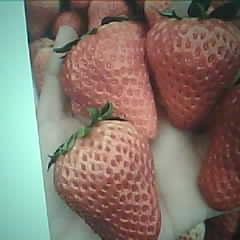straw-ripe: (56, 120, 161, 240), (63, 19, 155, 137), (147, 14, 240, 130)
